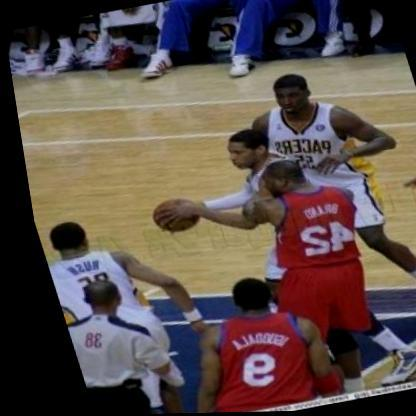basketball: (139, 191, 197, 240)
